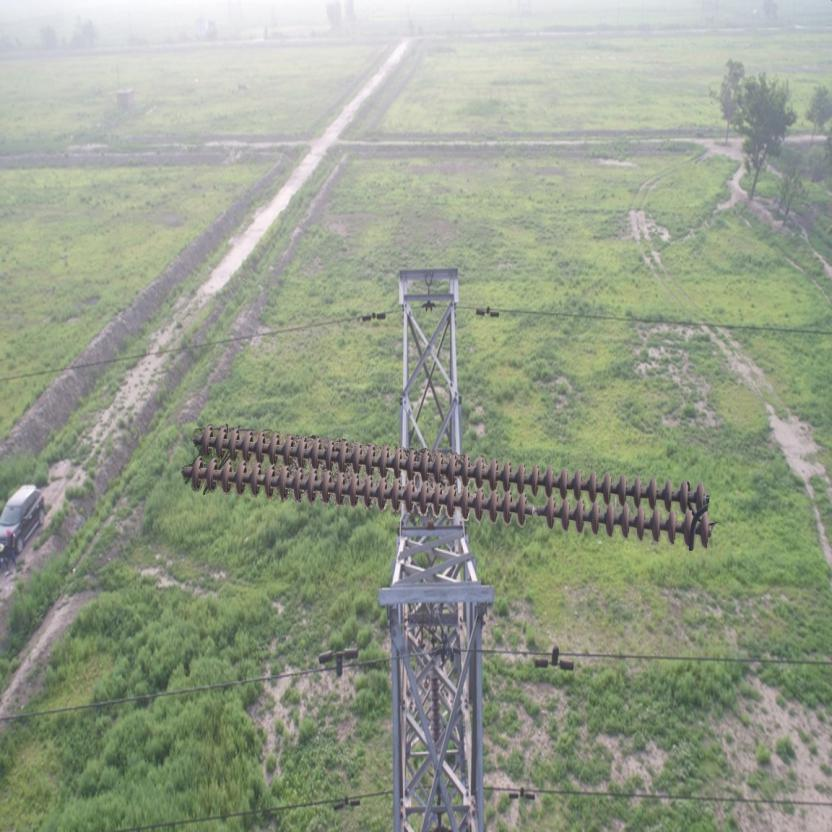defect: (509, 487, 560, 530)
